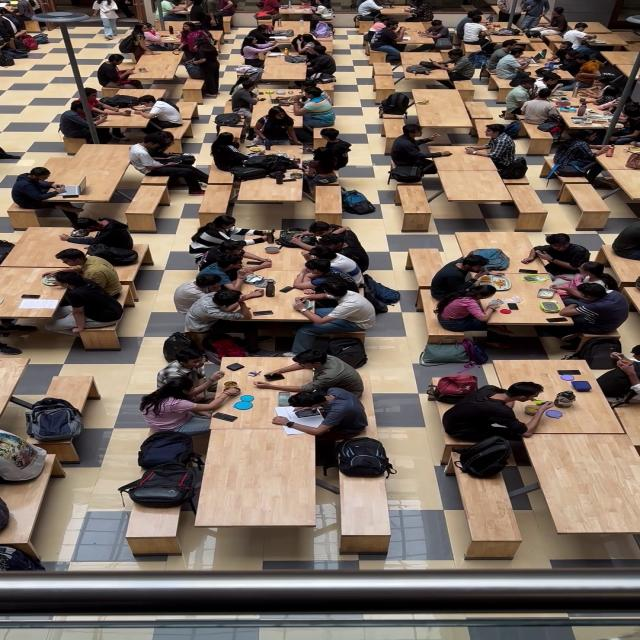Occupied: (491, 358, 630, 435), (7, 145, 134, 222), (208, 363, 330, 430), (442, 381, 545, 443), (138, 376, 236, 435), (257, 350, 365, 402), (431, 287, 563, 329), (270, 387, 368, 441), (92, 102, 198, 149), (127, 136, 207, 192), (44, 248, 122, 304), (246, 235, 338, 281), (0, 233, 116, 269), (427, 308, 537, 344), (231, 166, 307, 213), (157, 351, 227, 401), (292, 276, 375, 318), (556, 280, 628, 326), (188, 215, 273, 253), (546, 101, 622, 142), (430, 253, 492, 303), (552, 131, 614, 181), (390, 124, 450, 172), (209, 131, 270, 177), (523, 235, 591, 274), (452, 436, 514, 478), (200, 237, 272, 273), (26, 398, 84, 442), (136, 430, 201, 469), (73, 88, 130, 132), (294, 248, 362, 284), (526, 66, 582, 109), (471, 123, 518, 173), (551, 262, 618, 297), (252, 106, 305, 148), (183, 39, 220, 97), (195, 255, 257, 289), (296, 218, 356, 252), (262, 50, 313, 86), (428, 372, 480, 403), (504, 76, 548, 112), (96, 54, 142, 88), (431, 48, 476, 82), (573, 339, 623, 369), (604, 103, 640, 144), (300, 152, 342, 187), (368, 22, 406, 60), (595, 365, 637, 399), (308, 271, 360, 297), (510, 9, 554, 39), (282, 86, 332, 112), (300, 47, 336, 83), (492, 48, 532, 80), (0, 9, 30, 51), (240, 36, 279, 68), (87, 242, 139, 266), (254, 75, 310, 97), (163, 332, 201, 364), (230, 80, 262, 118), (0, 545, 46, 571), (326, 336, 368, 364), (179, 23, 214, 56), (363, 276, 400, 307), (561, 23, 597, 54), (201, 332, 245, 356), (313, 144, 351, 171), (456, 13, 488, 45), (247, 154, 298, 173), (141, 23, 176, 50), (341, 190, 377, 216), (290, 325, 323, 353), (468, 248, 510, 270), (59, 110, 90, 138), (245, 24, 281, 48), (538, 7, 568, 35), (188, 0, 214, 30), (497, 156, 529, 180), (15, 0, 40, 30), (419, 19, 450, 43), (554, 159, 593, 178), (388, 163, 425, 183), (380, 93, 411, 115), (228, 166, 270, 182), (213, 0, 236, 29), (375, 8, 418, 23), (406, 0, 435, 22), (160, 0, 186, 24), (276, 227, 307, 247), (357, 0, 385, 19), (311, 17, 335, 39), (256, 0, 282, 20), (368, 14, 394, 34), (101, 95, 140, 108), (13, 31, 38, 51), (119, 34, 141, 54), (311, 0, 334, 18), (161, 153, 195, 165), (468, 51, 490, 69), (214, 113, 244, 126), (183, 60, 202, 78), (434, 31, 453, 49), (536, 120, 562, 133), (242, 68, 264, 83), (504, 120, 522, 138), (146, 42, 178, 52), (3, 47, 29, 59), (0, 48, 15, 67), (314, 72, 337, 84), (495, 0, 512, 16), (504, 105, 523, 119), (406, 64, 431, 74), (233, 65, 259, 74), (492, 28, 520, 36), (32, 33, 50, 44), (284, 55, 307, 63), (526, 30, 542, 38), (213, 8, 226, 16)
Unoccupied: (192, 428, 316, 530), (532, 434, 640, 538), (446, 457, 523, 560), (1, 454, 61, 562), (435, 167, 517, 230), (337, 466, 391, 556), (123, 496, 184, 556), (173, 270, 256, 314), (412, 88, 476, 142), (454, 232, 533, 262), (66, 217, 134, 250), (560, 184, 612, 227), (121, 51, 184, 85), (124, 184, 170, 230), (505, 186, 550, 228), (407, 248, 447, 295), (42, 376, 98, 409), (131, 96, 183, 131), (519, 91, 567, 128), (398, 185, 433, 232), (199, 182, 237, 215), (400, 52, 459, 71), (313, 187, 342, 219), (206, 158, 240, 184), (180, 71, 209, 101), (572, 22, 615, 35)
